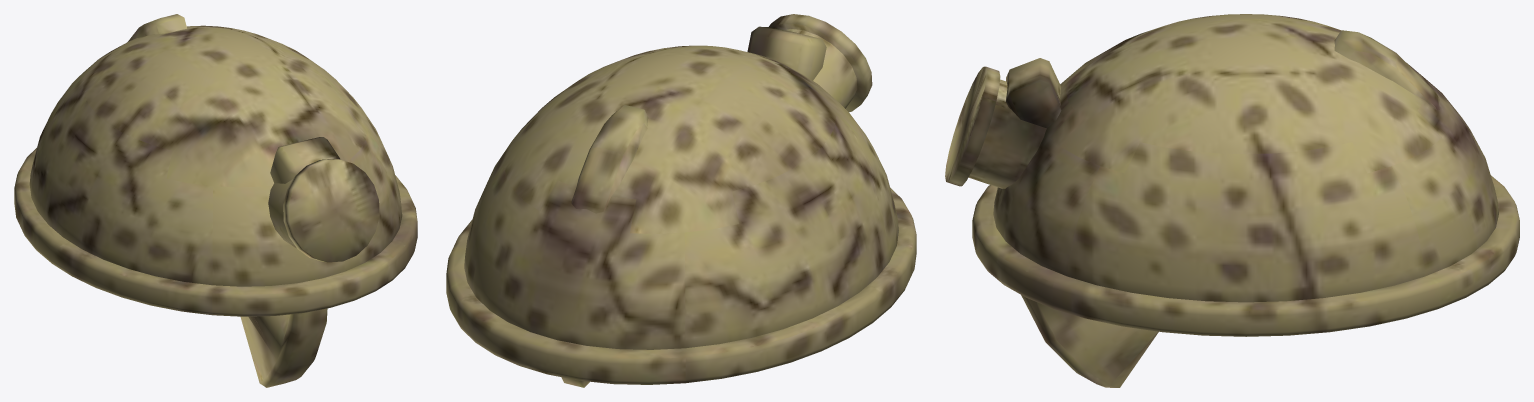
Rendered from KeeperHelmet.glb.
3 views of the same model, side by side, from view 1: azimuth 30°, elevation 25°; view 2: azimuth 150°, elevation 25°; view 3: azimuth 270°, elevation 25° (orthographic). The views are drawn at different scales.
Parts seen in each view (by area): view 1: KeeperHelmet; view 2: KeeperHelmet; view 3: KeeperHelmet.
Part boxes in pixels (x1,y1,x2,y2): KeeperHelmet: [14, 14, 417, 387]; KeeperHelmet: [446, 14, 916, 387]; KeeperHelmet: [945, 14, 1519, 387].
Size of the model in its own units: 0.1919 by 0.1641 by 0.2439.
1 material, 1 textured.
